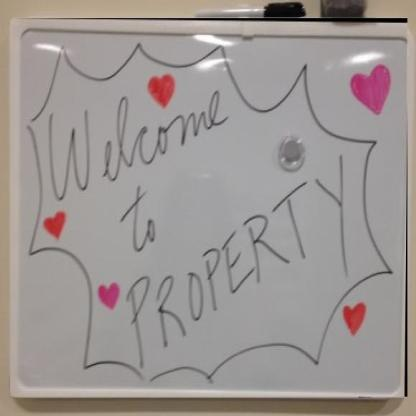Handwritten text: (86, 146, 394, 371), (15, 43, 240, 211), (108, 169, 173, 266)
Whiteboard: (9, 18, 406, 393)
